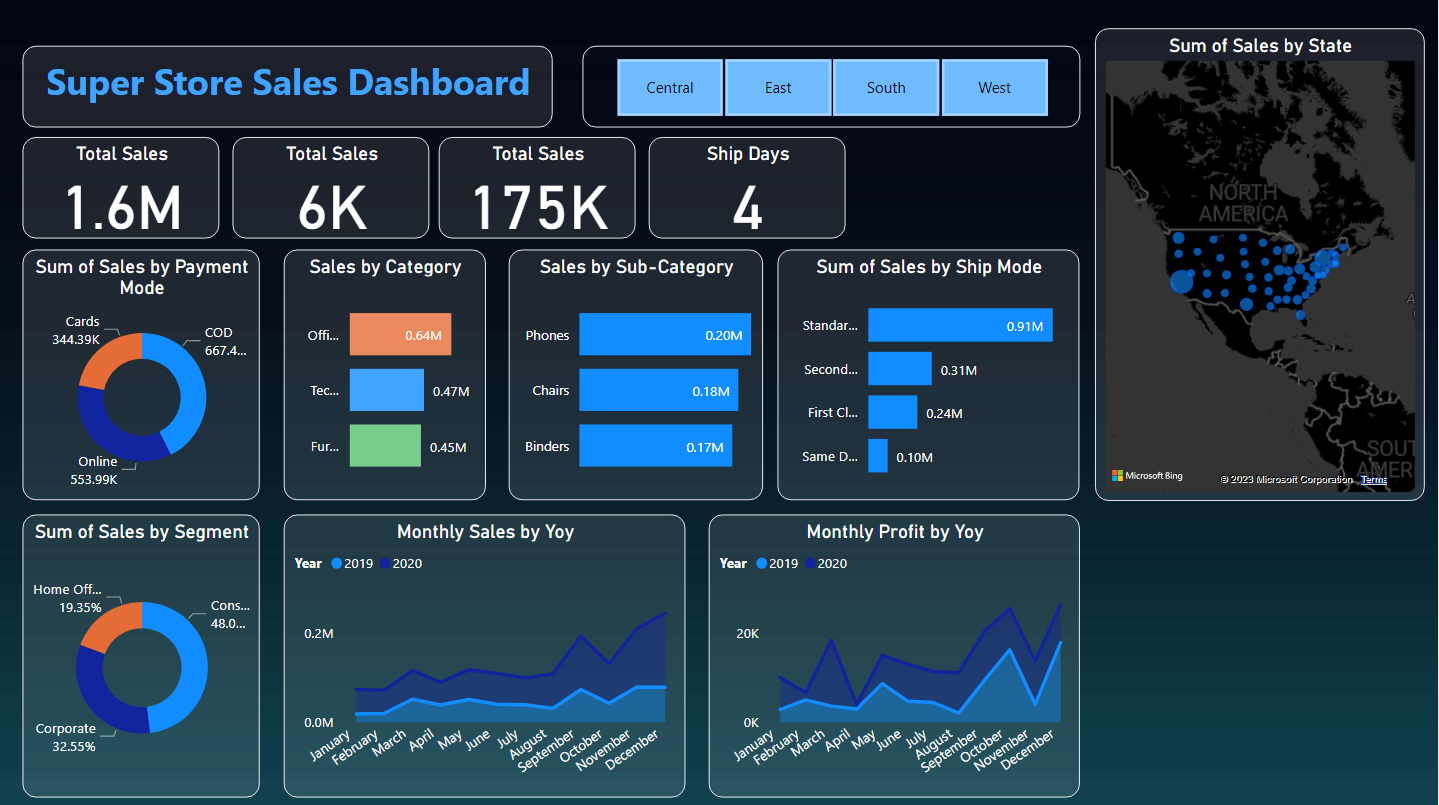

What the dashboard file says about the page in this screenshot:
{"tool":"powerbi","page":{"name":"Page 1","canvas":[1280,720],"ordinal":0},"visuals":[{"type":"barChart","title":"Sales by Category","fields":{"Y":["Sum(SuperStore_Sales_Dataset.Sales)"],"Category":["SuperStore_Sales_Dataset.Category"]},"box":[252.3,224.9,179.6,223.5],"z":0},{"type":"barChart","title":"Sales by Sub-Category","fields":{"Category":["SuperStore_Sales_Dataset.Sub-Category"],"Y":["Sum(SuperStore_Sales_Dataset.Sales)"]},"box":[452.4,224.9,226.2,223.5],"z":1000},{"type":"barChart","fields":{"Category":["SuperStore_Sales_Dataset.Ship Mode"],"Y":["Sum(SuperStore_Sales_Dataset.Sales)"]},"box":[692.4,224.9,268.7,223.5],"z":2000},{"type":"stackedAreaChart","title":"Monthly Sales by Yoy","fields":{"Category":["SuperStore_Sales_Dataset.Order Date.Variation.Date Hierarchy.Month"],"Y":["Sum(SuperStore_Sales_Dataset.Sales)"],"Series":["SuperStore_Sales_Dataset.Order Date.Variation.Date Hierarchy.Year"]},"box":[252.3,460.3,357.8,252.3],"z":3000},{"type":"stackedAreaChart","title":"Monthly Profit by Yoy","fields":{"Category":["SuperStore_Sales_Dataset.Order Date.Variation.Date Hierarchy.Month"],"Series":["SuperStore_Sales_Dataset.Order Date.Variation.Date Hierarchy.Year"],"Y":["Sum(SuperStore_Sales_Dataset.Profit)"]},"box":[630.7,460.7,330.4,252.3],"z":4000},{"type":"map","fields":{"Category":["SuperStore_Sales_Dataset.State"],"Size":["Sum(SuperStore_Sales_Dataset.Sales)"]},"box":[974.8,27.4,293.4,420.9],"z":5000},{"type":"donutChart","fields":{"Y":["Sum(SuperStore_Sales_Dataset.Sales)"],"Category":["SuperStore_Sales_Dataset.Payment Mode"]},"box":[20.6,224.9,211.1,223.5],"z":6000},{"type":"donutChart","fields":{"Y":["Sum(SuperStore_Sales_Dataset.Sales)"],"Category":["SuperStore_Sales_Dataset.Segment"]},"box":[20.6,460.3,211.1,252.3],"z":7000},{"type":"textbox","box":[20.6,43.9,471.6,72.7],"z":8000},{"type":"slicer","fields":{"Values":["SuperStore_Sales_Dataset.Region"]},"box":[518.3,43.9,442.8,72.7],"z":9000},{"type":"card","title":"Total Sales","fields":{"Values":["SuperStore_Sales_Dataset.Sum of sales"]},"box":[20.6,124.8,175.5,90.5],"z":10000},{"type":"card","title":"Total Sales","fields":{"Values":["CountNonNull(SuperStore_Sales_Dataset.Order ID)"]},"box":[207,124.8,175.5,90.5],"z":10001},{"type":"card","title":"Total Sales","fields":{"Values":["Sum(SuperStore_Sales_Dataset.Profit)"]},"box":[390.7,124.8,175.5,90.5],"z":10002},{"type":"card","title":"Ship Days","fields":{"Values":["Avg(SuperStore_Sales_Dataset.avgdeliverytime)"]},"box":[577.2,124.8,175.5,90.5],"z":10003}]}

Visuals, with their boxes in screenshot pixels (x1, y1, x2, y2), scaled from the page's 1280x720 canvas onto the 1439x805 screenshot:
"Sales by Category" barChart: pyautogui.locateOnScreen(284, 251, 486, 501)
"Sales by Sub-Category" barChart: pyautogui.locateOnScreen(509, 251, 763, 501)
barChart - SuperStore_Sales_Dataset.Ship Mode x Sum(SuperStore_Sales_Dataset.Sales): pyautogui.locateOnScreen(778, 251, 1080, 501)
"Monthly Sales by Yoy" stackedAreaChart: pyautogui.locateOnScreen(284, 515, 686, 797)
"Monthly Profit by Yoy" stackedAreaChart: pyautogui.locateOnScreen(709, 515, 1080, 797)
map - SuperStore_Sales_Dataset.State x Sum(SuperStore_Sales_Dataset.Sales): pyautogui.locateOnScreen(1096, 31, 1426, 501)
donutChart - Sum(SuperStore_Sales_Dataset.Sales) x SuperStore_Sales_Dataset.Payment Mode: pyautogui.locateOnScreen(23, 251, 260, 501)
donutChart - Sum(SuperStore_Sales_Dataset.Sales) x SuperStore_Sales_Dataset.Segment: pyautogui.locateOnScreen(23, 515, 260, 797)
textbox: pyautogui.locateOnScreen(23, 49, 553, 130)
slicer - SuperStore_Sales_Dataset.Region: pyautogui.locateOnScreen(583, 49, 1080, 130)
"Total Sales" card: pyautogui.locateOnScreen(23, 140, 220, 241)
"Total Sales" card: pyautogui.locateOnScreen(233, 140, 430, 241)
"Total Sales" card: pyautogui.locateOnScreen(439, 140, 637, 241)
"Ship Days" card: pyautogui.locateOnScreen(649, 140, 846, 241)
